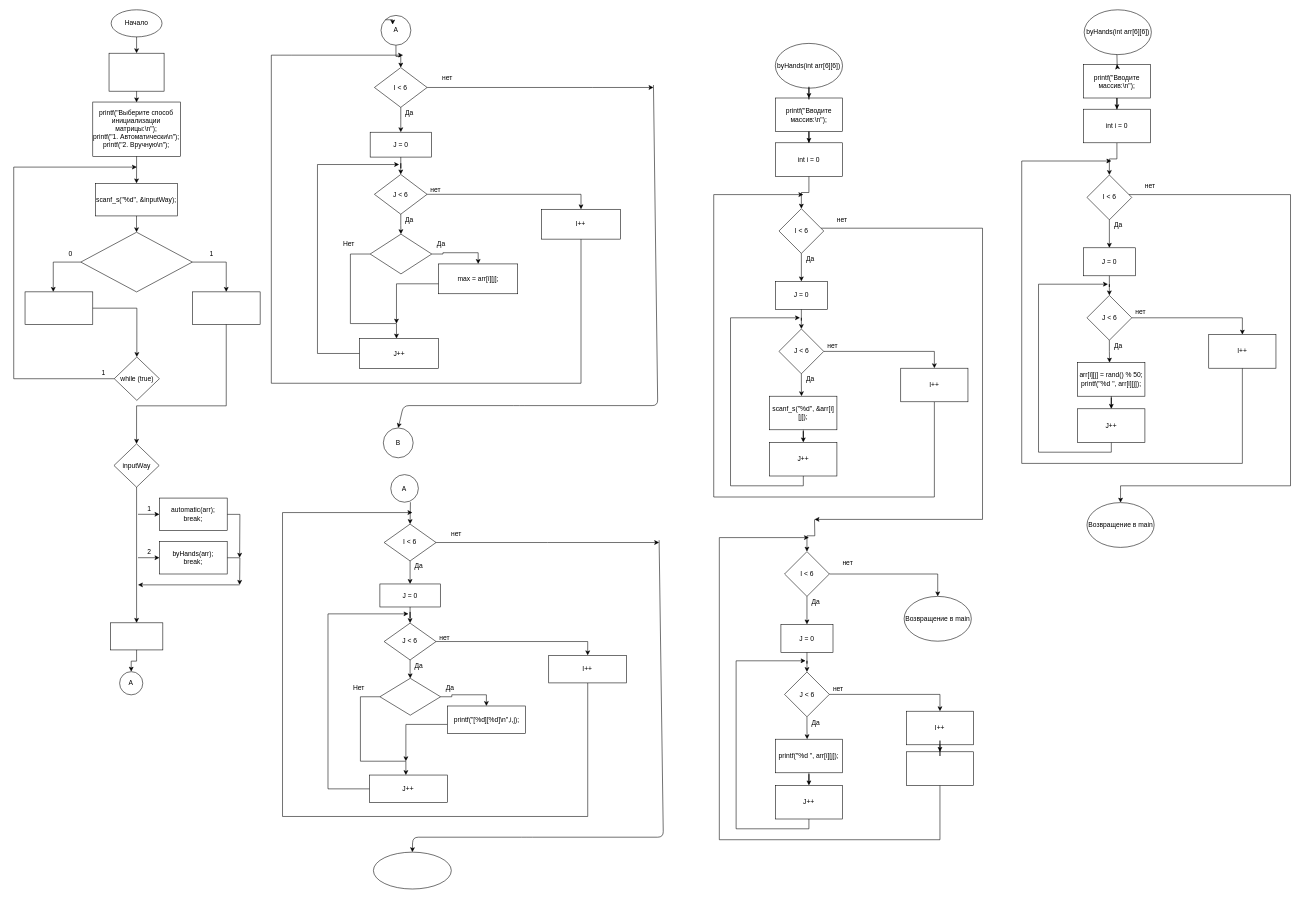
Some shapes in this 1305 by 899 pixel diagram are drawn without their labels. Each missing label, with the centre of its shape:
(inputWay == 1) || (inputWay == 2): (x=136, y=262)
arr[i][j] == max: (x=410, y=696)
arr[i][j] > max: (x=401, y=254)
break: (x=226, y=307)
i = 0: (x=136, y=636)
int arr[6][6]; int max = 0; int inputWay;: (x=136, y=72)
printf("\n");: (x=940, y=768)
printf("Неверная команда\n");: (x=58, y=307)
Конец: (x=412, y=870)
